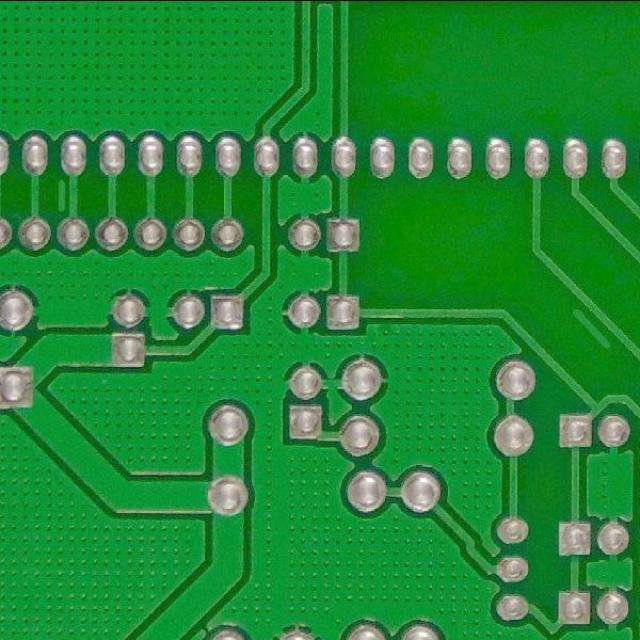Spurious_Cooper: (564, 302, 619, 357), (52, 175, 70, 214)
